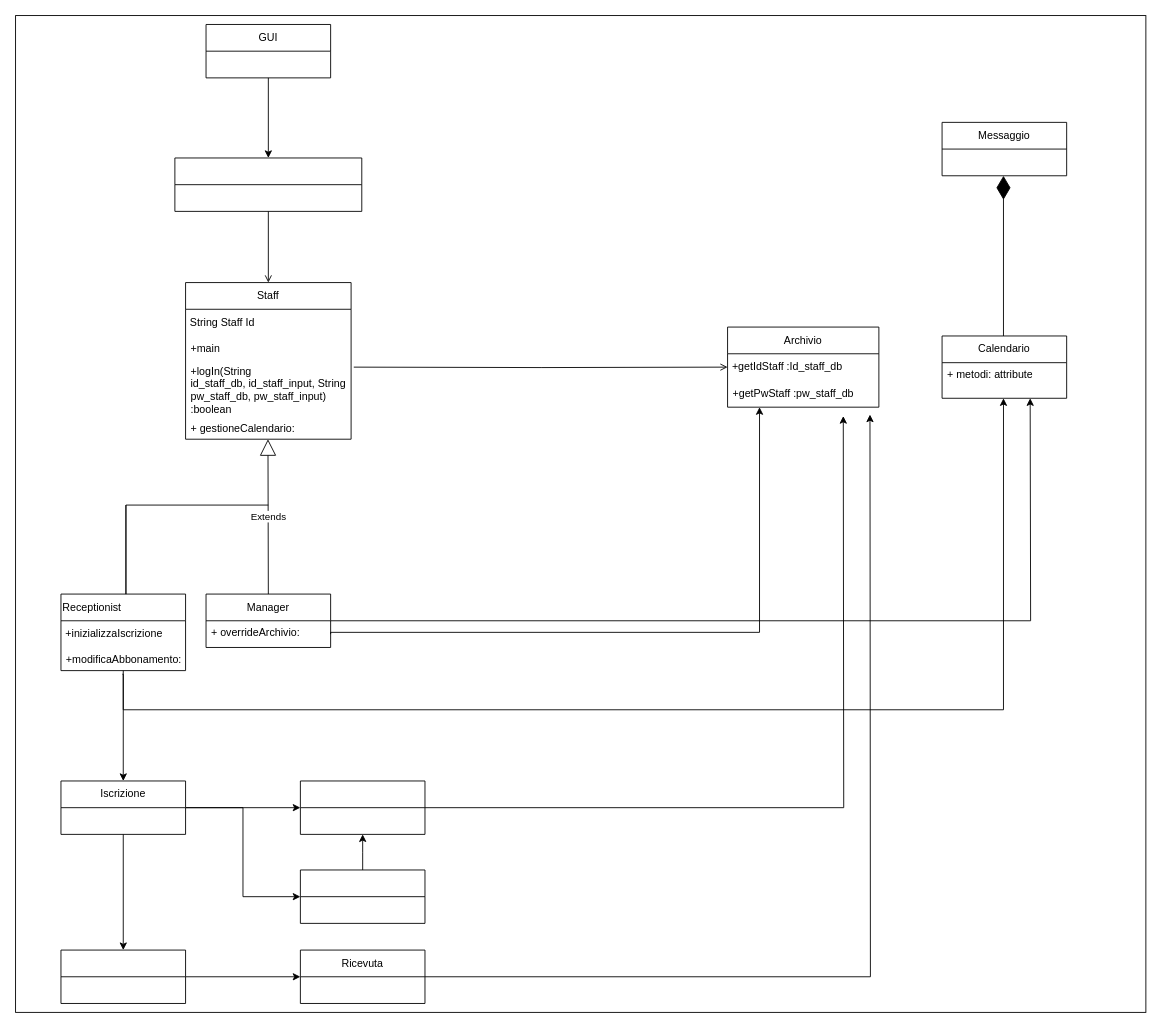
Image size: 1161x1028. Some labels were removed from this diagram. The centre of each missing label's shape, as x and y in pixels:
"Abbonamento????" goes at point (362, 896).
"GymPal Controller Facade" goes at point (268, 184).
"Op Pagamento" goes at point (123, 976).
"Profilo cliente" goes at point (362, 807).
